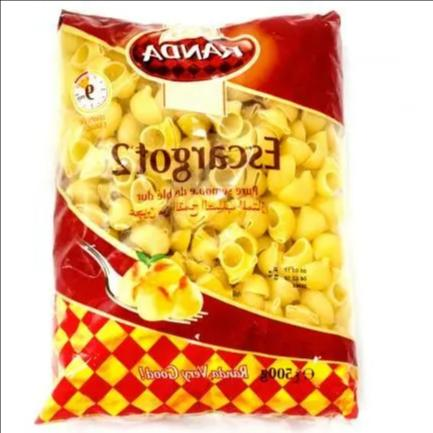Escargot: (31, 11, 357, 425)
